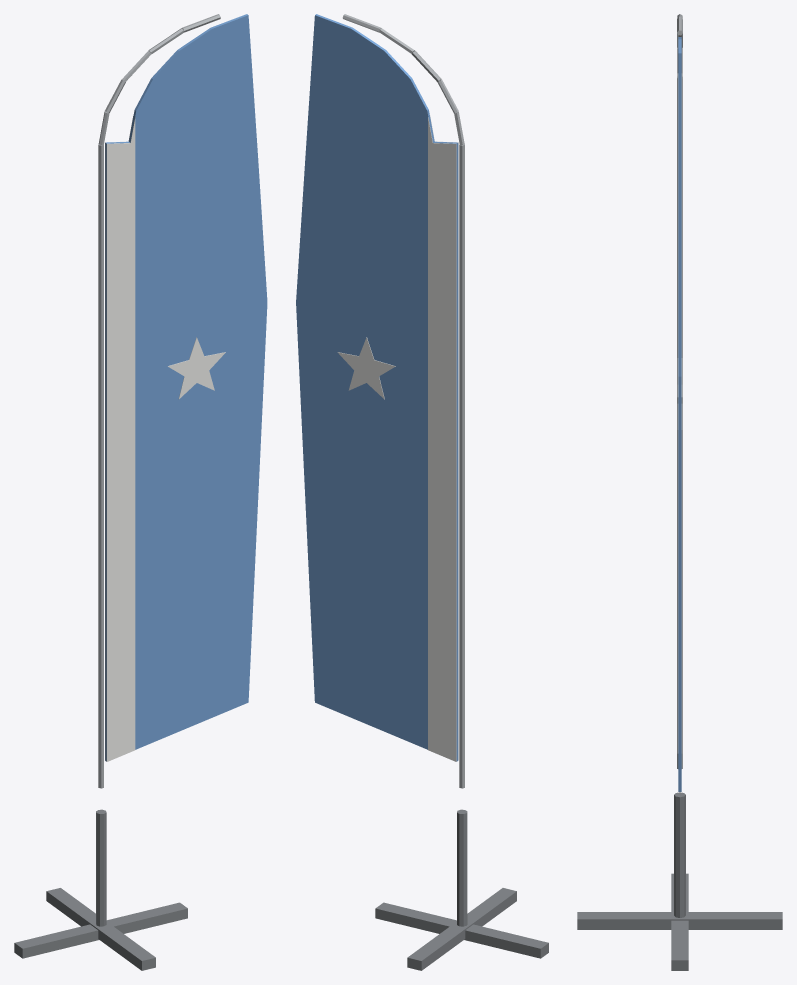
File: flag_b.glb
The picture shows the model from 3 angles, left to right: view 1: azimuth 30°, elevation 25°; view 2: azimuth 150°, elevation 25°; view 3: azimuth 270°, elevation 25°; orthographic projection. The views are drawn at different scales.
Parts seen in each view (by area): view 1: flag_b_flag_b, flag_b_paint_w, flag_b_steel_d, flag_b_steel; view 2: flag_b_flag_b, flag_b_paint_w, flag_b_steel_d, flag_b_steel; view 3: flag_b_steel_d, flag_b_flag_b, flag_b_paint_w, flag_b_steel.
Part boxes in pixels (<box>): flag_b_flag_b: <box>105,14,267,761</box>; flag_b_paint_w: <box>105,116,225,761</box>; flag_b_steel_d: <box>14,809,187,970</box>; flag_b_steel: <box>98,14,220,788</box>; flag_b_flag_b: <box>296,14,458,761</box>; flag_b_paint_w: <box>337,115,458,761</box>; flag_b_steel_d: <box>375,809,548,970</box>; flag_b_steel: <box>342,14,464,788</box>; flag_b_steel_d: <box>577,792,782,970</box>; flag_b_flag_b: <box>678,37,681,791</box>; flag_b_paint_w: <box>677,73,682,753</box>; flag_b_steel: <box>677,14,682,768</box>.
Size of the model in its own units: 1.05 by 3.61 by 0.7.
